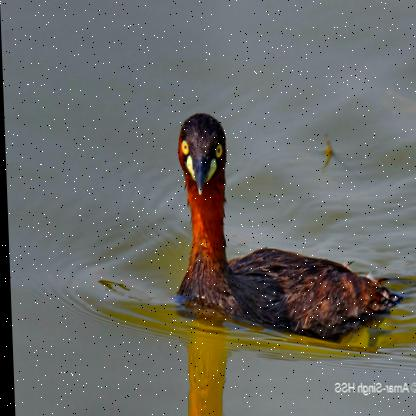Burung: (169, 113, 402, 340)
